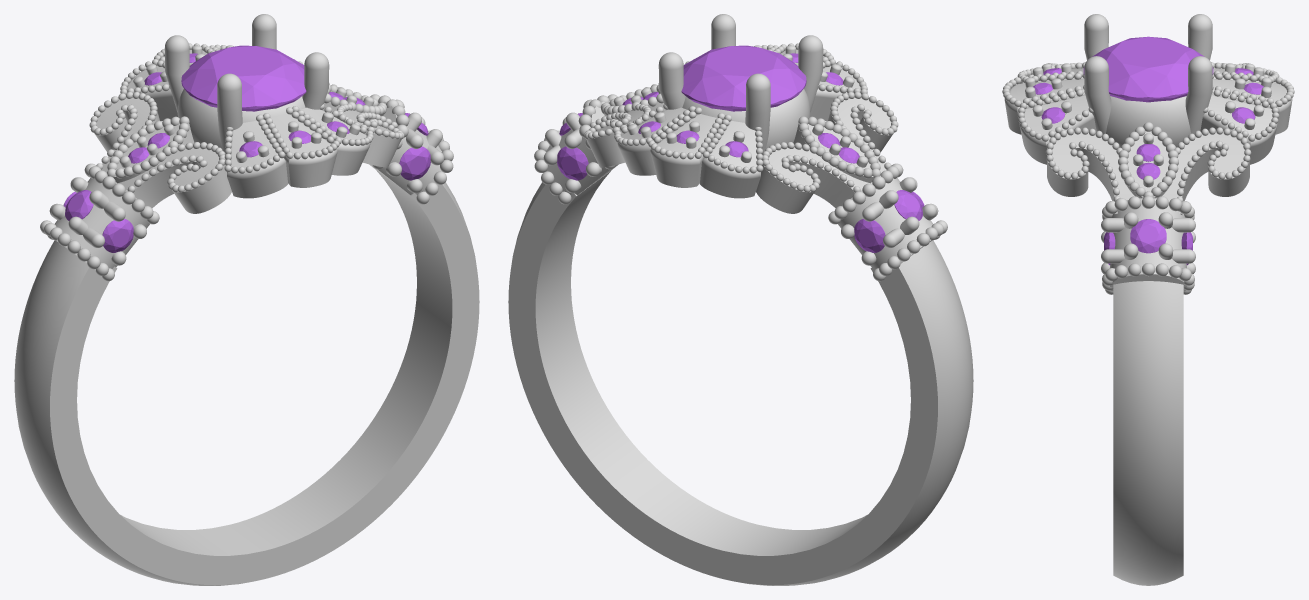
3 views of the same model, side by side, from view 1: azimuth 30°, elevation 25°; view 2: azimuth 150°, elevation 25°; view 3: azimuth 270°, elevation 25° (orthographic).
Visible parts, largest first — view 1: anillo piedras mora.3dm; view 2: anillo piedras mora.3dm; view 3: anillo piedras mora.3dm.
Part boxes in pixels (box(x1,y1,x2,y2)): anillo piedras mora.3dm: box(14, 14, 479, 585); anillo piedras mora.3dm: box(508, 14, 973, 585); anillo piedras mora.3dm: box(1002, 14, 1294, 585).
Size of the model in its own units: 2.48 by 2.81 by 1.41.
